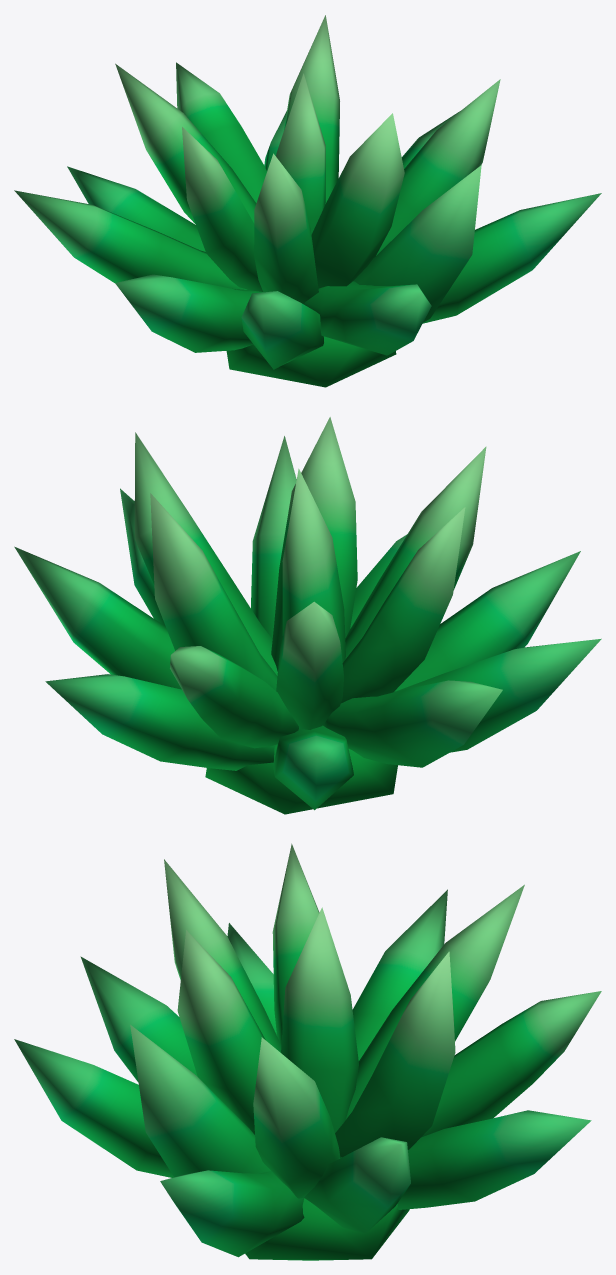
File: Plant_005.fbx
3 renders of one model, top to bottom at view 1: azimuth 30°, elevation 25°; view 2: azimuth 150°, elevation 25°; view 3: azimuth 270°, elevation 25°, orthographic. The views are drawn at different scales.
Visible parts, largest first — view 1: Plant_005; view 2: Plant_005; view 3: Plant_005.
Part boxes in pixels (x1,y1,x2,y2): Plant_005: (14, 15, 601, 387); Plant_005: (14, 417, 601, 814); Plant_005: (14, 843, 601, 1260).
Bounding box in the file's own units: 44.64 × 42.21 × 28.08.
